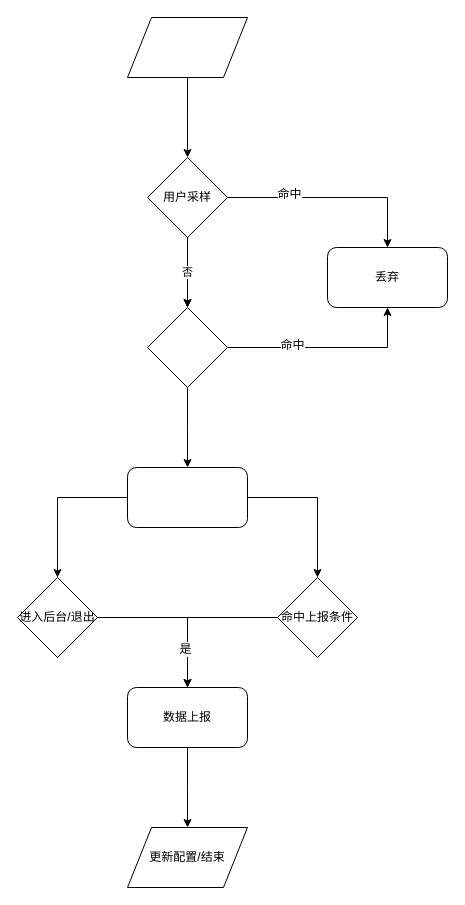
This 465x905 diagram has some shape labels left out. Each missing label, with the centre of its shape:
"数据源" belongs at [187,47].
"数据缓存" belongs at [187,497].
"配置采样" belongs at [187,347].
